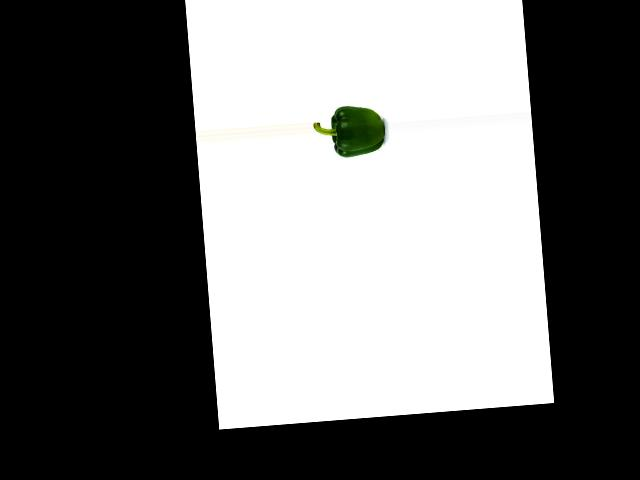bell_pepper: (313, 102, 387, 167)
